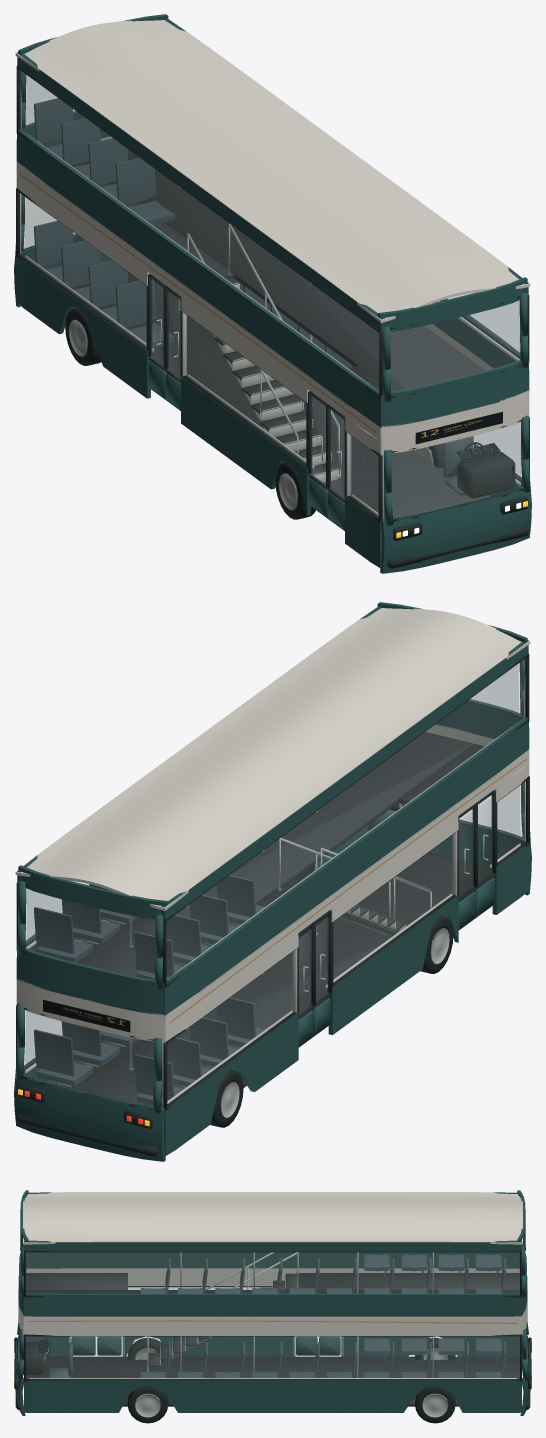
File: serein-d11-lod1.glb
3 renders of one model, top to bottom at view 1: azimuth 30°, elevation 25°; view 2: azimuth 150°, elevation 25°; view 3: azimuth 270°, elevation 25°, orthographic. The views are drawn at different scales.
Parts seen in each view (by area): view 1: LOD1-unselected-authoring-10300-pearl-batch, LOD1-unselected-authoring-10300-glass-batch, LOD1-unselected-authoring-10300-paint-batch, LOD1-unselected-authoring-10300-floor-batch, LOD1-unselected-authoring-10300-cloth-batch, LOD1-unselected-authoring-10300-dark-batch, LOD1-unselected-authoring-10300-interior-batch, LOD1-unselected-authoring-10300-metal-batch, LOD1-unselected-authoring-10300-display-batch, LOD1-unselected-authoring-11053-glass-batch, LOD1-unselected-authoring-10503-glass-batch, LOD1-unselected-authoring-10417-glass-batch (+6 smaller); view 2: LOD1-unselected-authoring-10300-pearl-batch, LOD1-unselected-authoring-10300-glass-batch, LOD1-unselected-authoring-10300-paint-batch, LOD1-unselected-authoring-10300-floor-batch, LOD1-unselected-authoring-10300-cloth-batch, LOD1-unselected-authoring-10300-dark-batch, LOD1-unselected-authoring-10300-interior-batch, LOD1-unselected-authoring-10300-metal-batch, LOD1-unselected-authoring-11053-glass-batch, LOD1-unselected-authoring-10503-glass-batch, LOD1-unselected-authoring-10300-display-batch, LOD1-unselected-authoring-10300-steel-batch (+6 smaller); view 3: LOD1-unselected-authoring-10300-paint-batch, LOD1-unselected-authoring-10300-glass-batch, LOD1-unselected-authoring-10300-pearl-batch, LOD1-unselected-authoring-10300-floor-batch, LOD1-unselected-authoring-10300-cloth-batch, LOD1-unselected-authoring-10300-dark-batch, LOD1-unselected-authoring-10300-metal-batch, LOD1-unselected-authoring-10300-livery-batch, LOD1-unselected-authoring-11120-dark-batch, LOD1-unselected-authoring-11126-dark-batch, LOD1-unselected-authoring-10300-interior-batch, LOD1-unselected-authoring-11120-metal-batch (+7 smaller).
Boxes of the visible parts, x1,y1,x2,y2 form: LOD1-unselected-authoring-10300-pearl-batch: [15, 20, 530, 455]; LOD1-unselected-authoring-10300-glass-batch: [20, 72, 521, 517]; LOD1-unselected-authoring-10300-paint-batch: [14, 14, 531, 573]; LOD1-unselected-authoring-10300-floor-batch: [69, 149, 489, 530]; LOD1-unselected-authoring-10300-cloth-batch: [34, 98, 473, 495]; LOD1-unselected-authoring-10300-dark-batch: [16, 65, 529, 568]; LOD1-unselected-authoring-10300-interior-batch: [20, 87, 520, 519]; LOD1-unselected-authoring-10300-metal-batch: [146, 223, 473, 496]; LOD1-unselected-authoring-10300-display-batch: [415, 411, 502, 460]; LOD1-unselected-authoring-11053-glass-batch: [311, 398, 325, 485]; LOD1-unselected-authoring-10503-glass-batch: [330, 412, 344, 498]; LOD1-unselected-authoring-10417-glass-batch: [151, 281, 163, 366]; LOD1-unselected-authoring-10300-pearl-batch: [15, 608, 530, 1043]; LOD1-unselected-authoring-10300-glass-batch: [24, 660, 525, 1105]; LOD1-unselected-authoring-10300-paint-batch: [14, 602, 531, 1161]; LOD1-unselected-authoring-10300-floor-batch: [56, 731, 492, 1105]; LOD1-unselected-authoring-10300-cloth-batch: [34, 810, 395, 1107]; LOD1-unselected-authoring-10300-dark-batch: [16, 653, 529, 1156]; LOD1-unselected-authoring-10300-interior-batch: [25, 675, 525, 1107]; LOD1-unselected-authoring-10300-metal-batch: [130, 804, 492, 1068]; LOD1-unselected-authoring-11053-glass-batch: [459, 811, 473, 898]; LOD1-unselected-authoring-10503-glass-batch: [478, 797, 492, 884]; LOD1-unselected-authoring-10300-display-batch: [43, 999, 130, 1032]; LOD1-unselected-authoring-10300-steel-batch: [45, 803, 432, 1106]; LOD1-unselected-authoring-10300-paint-batch: [14, 1190, 531, 1415]; LOD1-unselected-authoring-10300-glass-batch: [18, 1252, 527, 1378]; LOD1-unselected-authoring-10300-pearl-batch: [18, 1192, 527, 1335]; LOD1-unselected-authoring-10300-floor-batch: [26, 1273, 519, 1406]; LOD1-unselected-authoring-10300-cloth-batch: [48, 1252, 505, 1377]; LOD1-unselected-authoring-10300-dark-batch: [14, 1240, 531, 1409]; LOD1-unselected-authoring-10300-metal-batch: [47, 1252, 433, 1377]; LOD1-unselected-authoring-10300-livery-batch: [28, 1320, 517, 1323]; LOD1-unselected-authoring-11120-dark-batch: [127, 1386, 168, 1423]; LOD1-unselected-authoring-11126-dark-batch: [415, 1385, 455, 1423]; LOD1-unselected-authoring-10300-interior-batch: [29, 1275, 516, 1378]; LOD1-unselected-authoring-11120-metal-batch: [135, 1393, 160, 1417].
Size of the model in its own units: 2.54 by 4.4 by 10.98.
14 materials, 4 textured.
